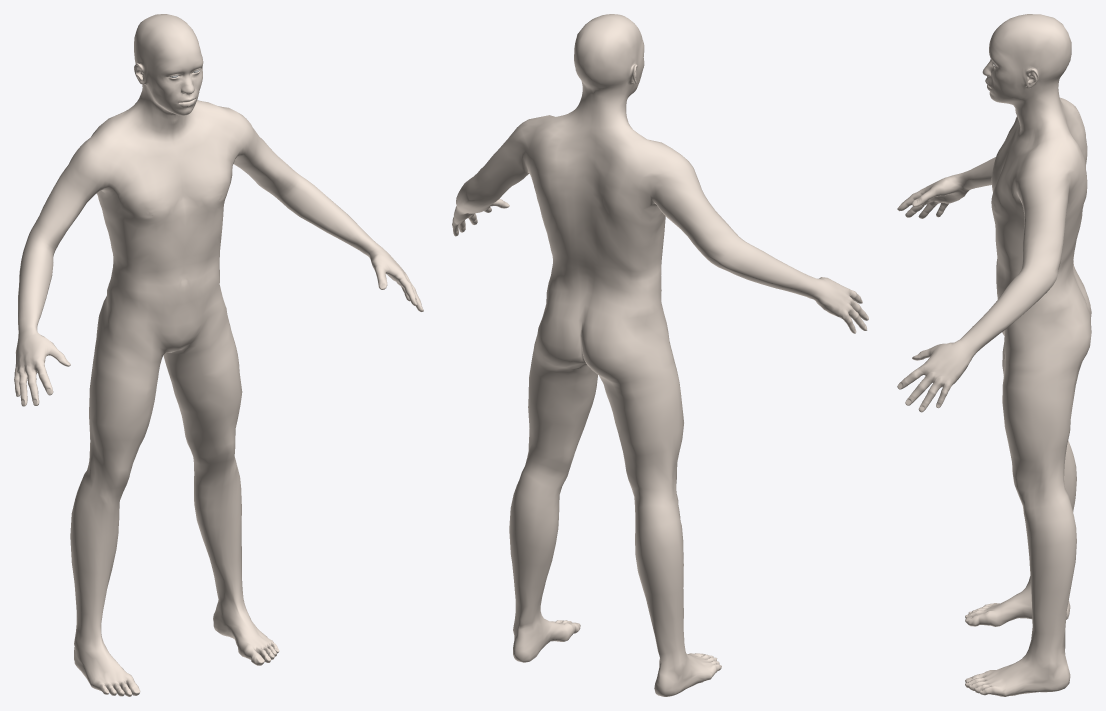
File: body_male.glb
3 renders of one model, left to right at view 1: azimuth 30°, elevation 25°; view 2: azimuth 150°, elevation 25°; view 3: azimuth 270°, elevation 25°, orthographic.
Visible parts, largest first — view 1: body; view 2: body; view 3: body.
Part boxes in pixels (x1=…): body: x1=14, y1=14, x2=423, y2=696; body: x1=452, y1=14, x2=868, y2=696; body: x1=897, y1=14, x2=1091, y2=696.
Bounding box in the file's own units: 1.13 × 1.73 × 0.4772.
